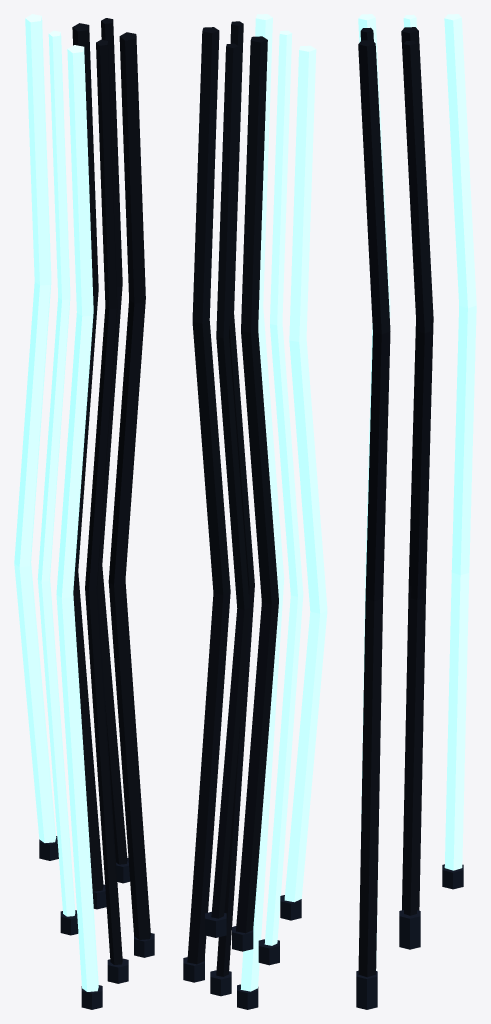
Rendered from CableHanging.fbx.
The picture shows the model from 3 angles, left to right: view 1: azimuth 30°, elevation 25°; view 2: azimuth 210°, elevation 25°; view 3: azimuth 270°, elevation 25°; orthographic projection. The views are drawn at different scales.
Parts seen in each view (by area): view 1: KIT_CableHanging_Mesh; view 2: KIT_CableHanging_Mesh; view 3: KIT_CableHanging_Mesh.
Part boxes in pixels (box(x1,y1,x2,y2)): KIT_CableHanging_Mesh: box(14, 14, 154, 1009); KIT_CableHanging_Mesh: box(183, 14, 327, 1009); KIT_CableHanging_Mesh: box(356, 14, 476, 1009).
Bounding box in the file's own units: 0.8807 × 8.79 × 0.9779.
